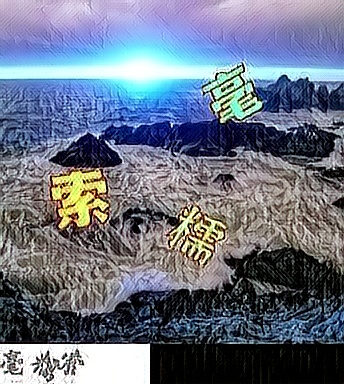BAC1: (200, 60, 262, 124)
C5B4: (166, 202, 228, 266)
CBF7: (48, 166, 110, 230)
